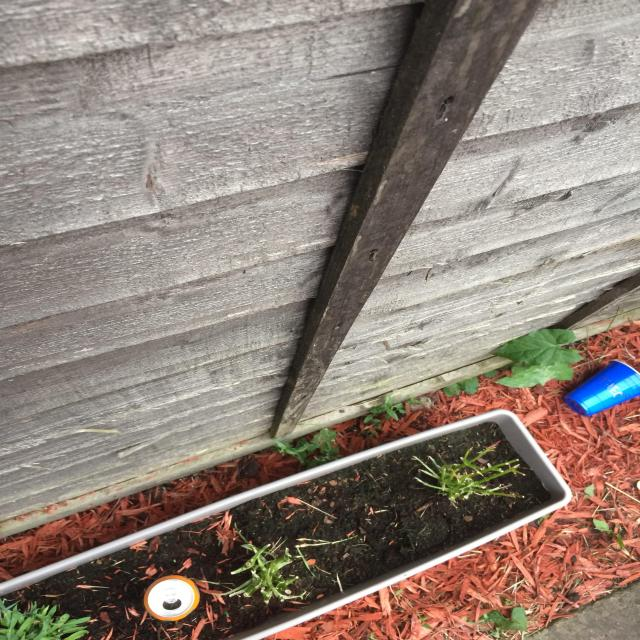Disposable plastic cup: (564, 361, 639, 416)
Drink can: (144, 575, 200, 621)
Pop tab: (165, 589, 178, 603)
